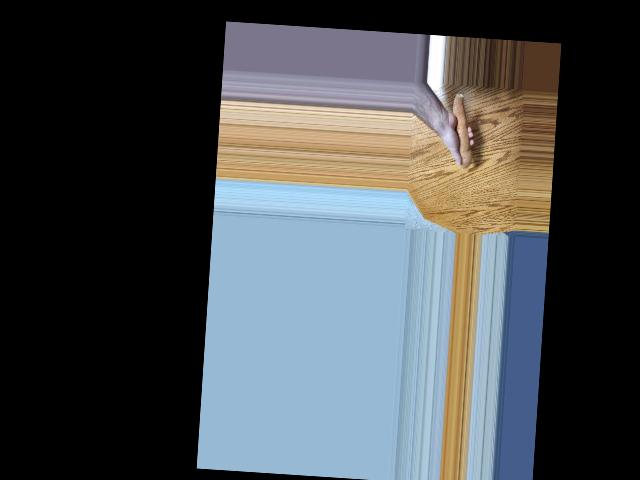sweet_potato: (446, 90, 477, 168)
